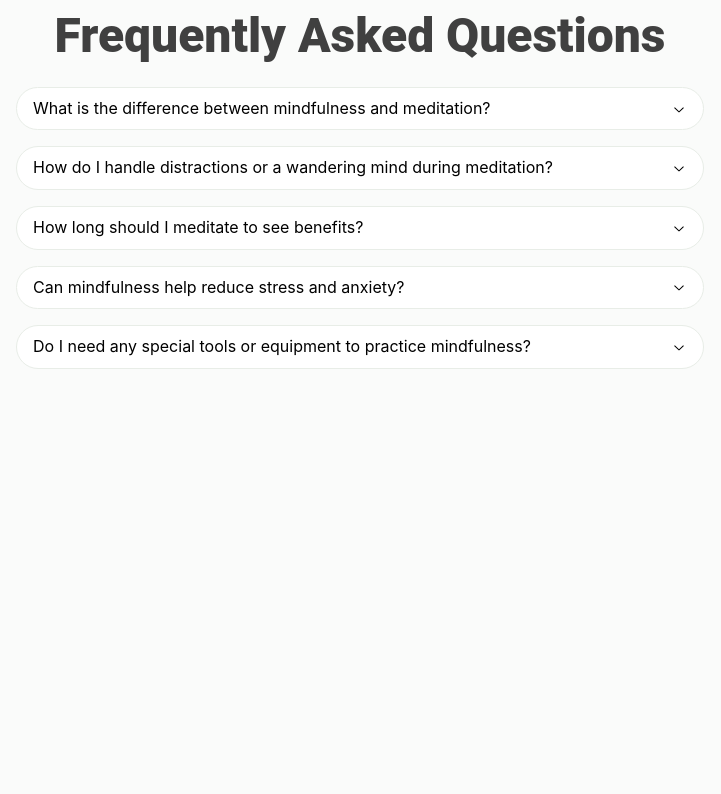
LandingFAQ › Accordion Interactions › expands accordion item when clicked
Click the button "What is the difference between mindfulness and meditation?" at [360, 109], box x1=17 y1=88 x2=703 y2=129
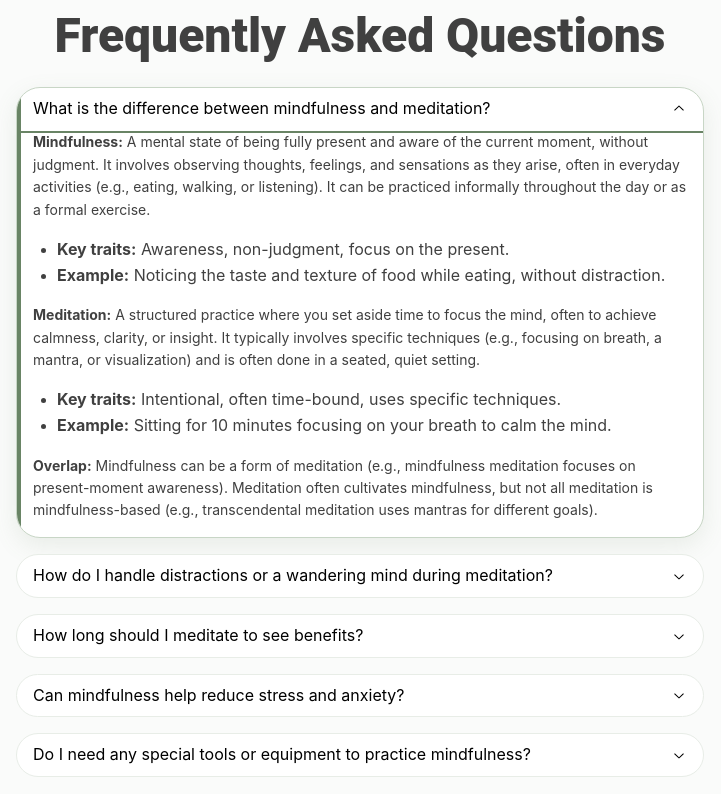
Now the text "A mental state of being fully present" is shown, box x1=33 y1=133 x2=686 y2=218
